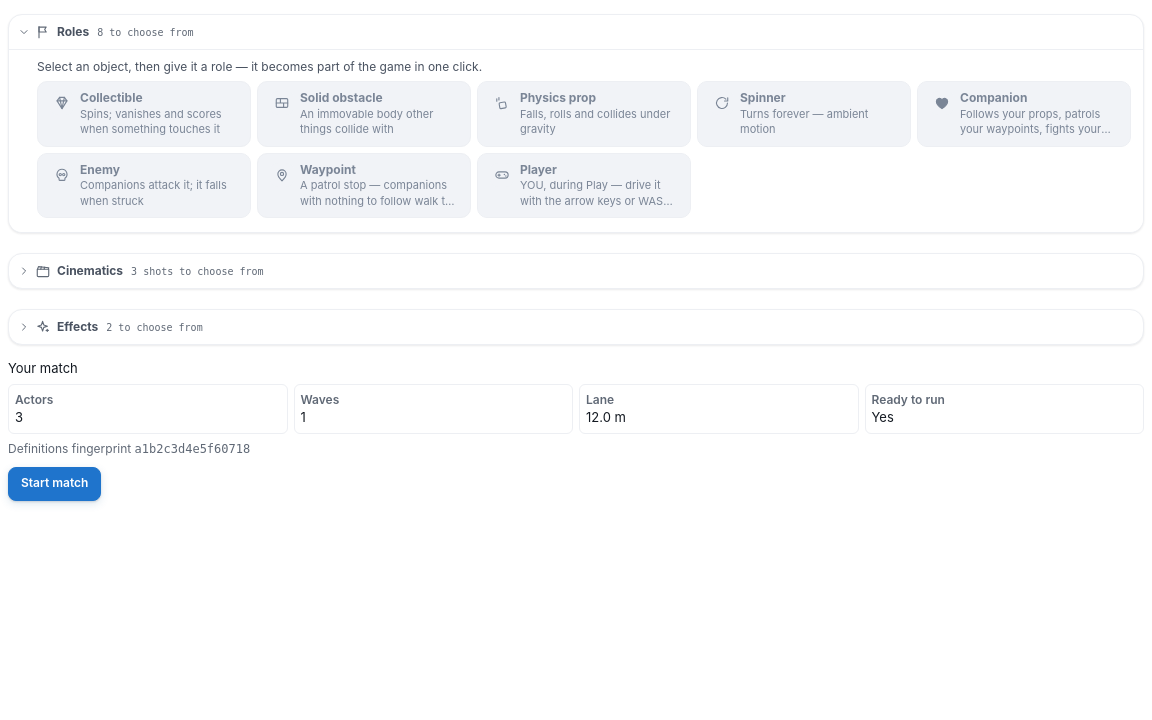
Test: MatchPanel › reports a start refusal from the shell rather than failing silently
The width and height of the screenshot is (1152, 720).
Click the button "Start match".
click(55, 484)  # box top-left (8, 467), bottom-right (101, 501)
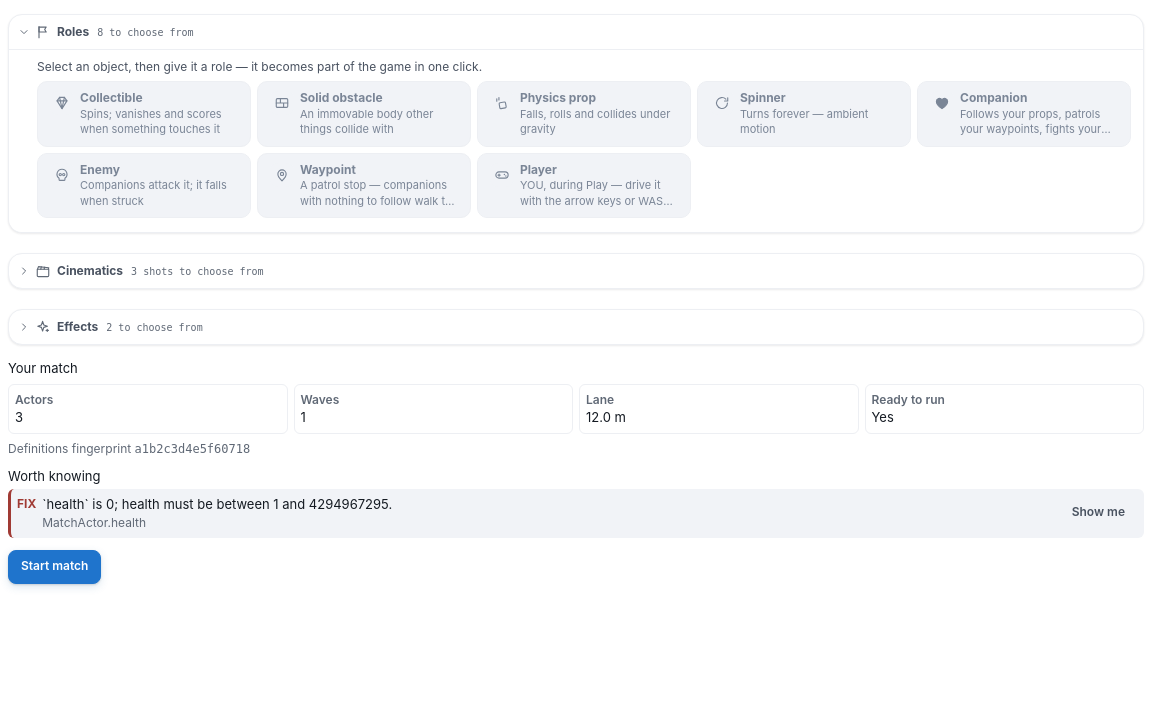
Expected: the text "`health` is 0; health must be between 1 and 4294967295." is shown, top-left (42, 496), bottom-right (392, 512)
